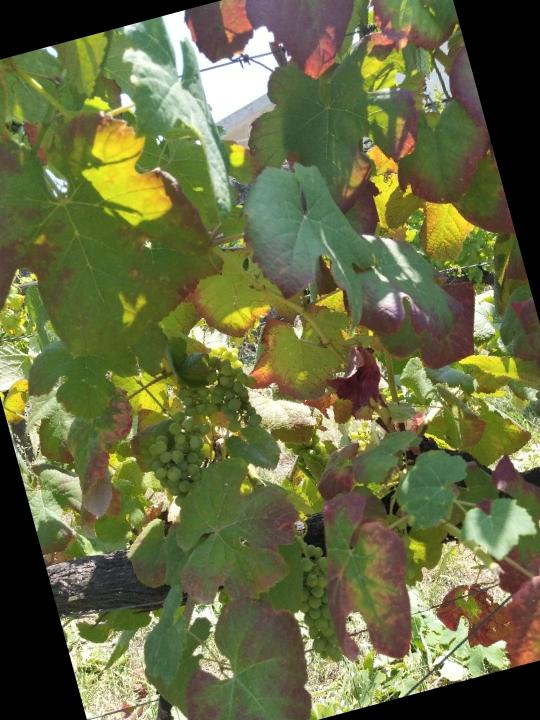grape: (166, 337, 270, 447), (280, 533, 357, 670), (137, 402, 230, 514)
